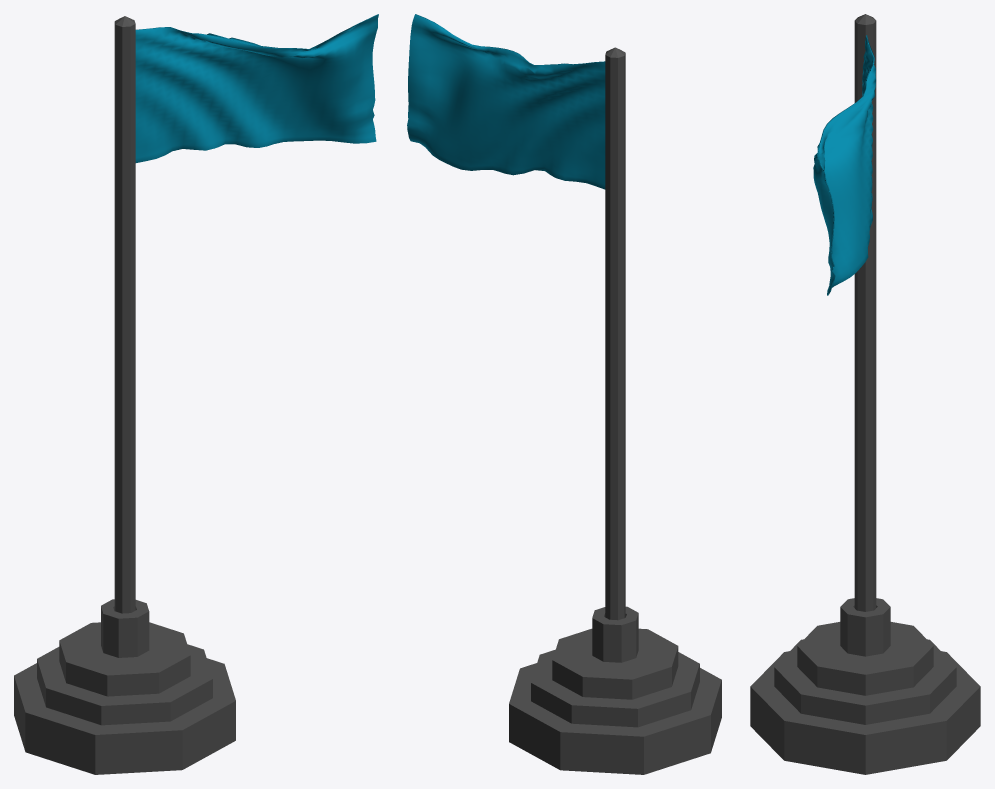
File: blue flag.fbx
3 views of the same model, side by side, from view 1: azimuth 30°, elevation 25°; view 2: azimuth 150°, elevation 25°; view 3: azimuth 270°, elevation 25° (orthographic). The views are drawn at different scales.
Visible parts, largest first — view 1: polySurface3, polySurface4; view 2: polySurface3, polySurface4; view 3: polySurface4, polySurface3.
Part boxes in pixels (x1,y1,x2,y2): polySurface3: [114, 14, 378, 613]; polySurface4: [14, 16, 235, 774]; polySurface3: [407, 14, 625, 620]; polySurface4: [509, 47, 721, 774]; polySurface4: [750, 14, 980, 774]; polySurface3: [813, 21, 876, 611].
Bounding box in the file's own units: 158 × 323 × 94.59.
